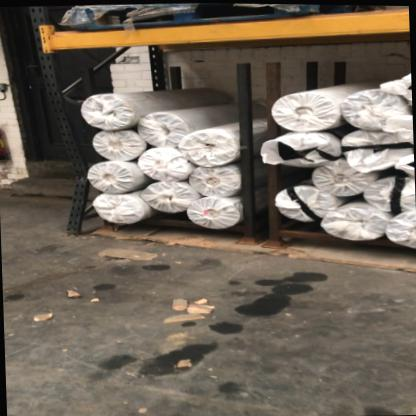vertical_damage: (55, 150, 111, 209)
